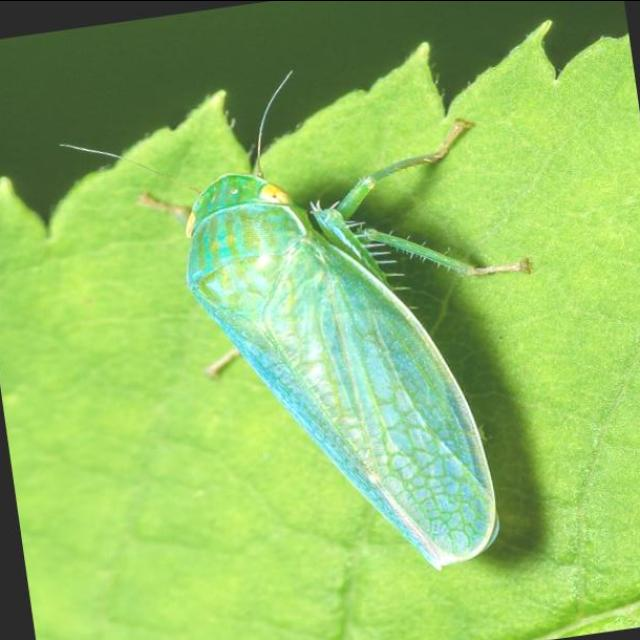green leaf hopper: (187, 121, 528, 569)
